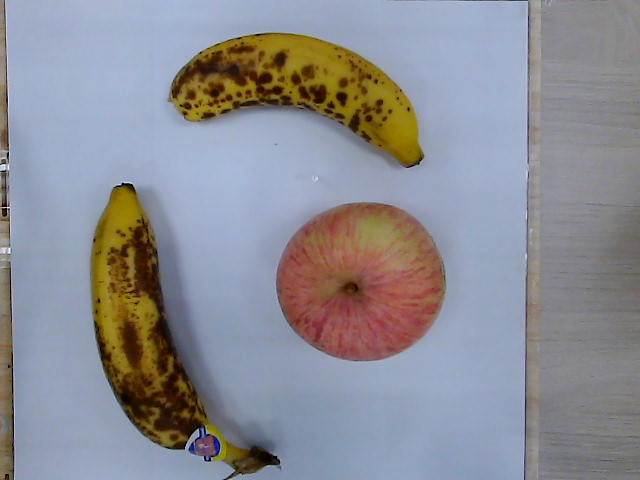fresh_apple: (276, 202, 447, 360)
rotten_banana: (92, 183, 277, 476), (170, 33, 425, 169)
